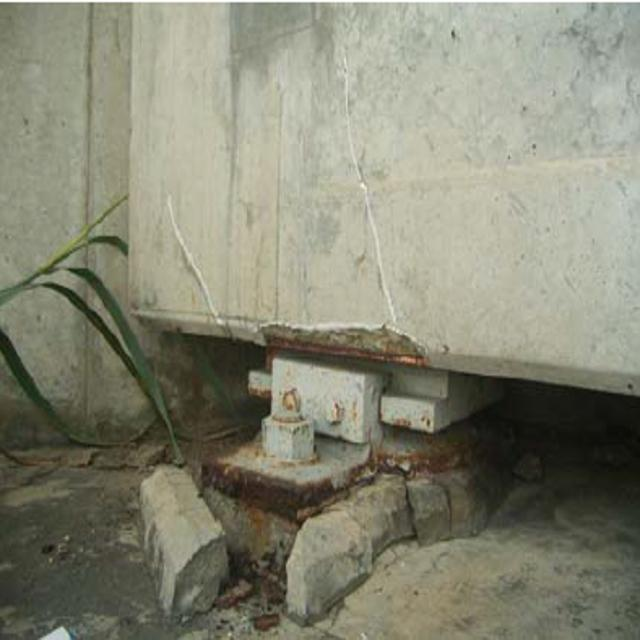corrosion: (194, 424, 497, 547)
spalling: (253, 307, 444, 382)
